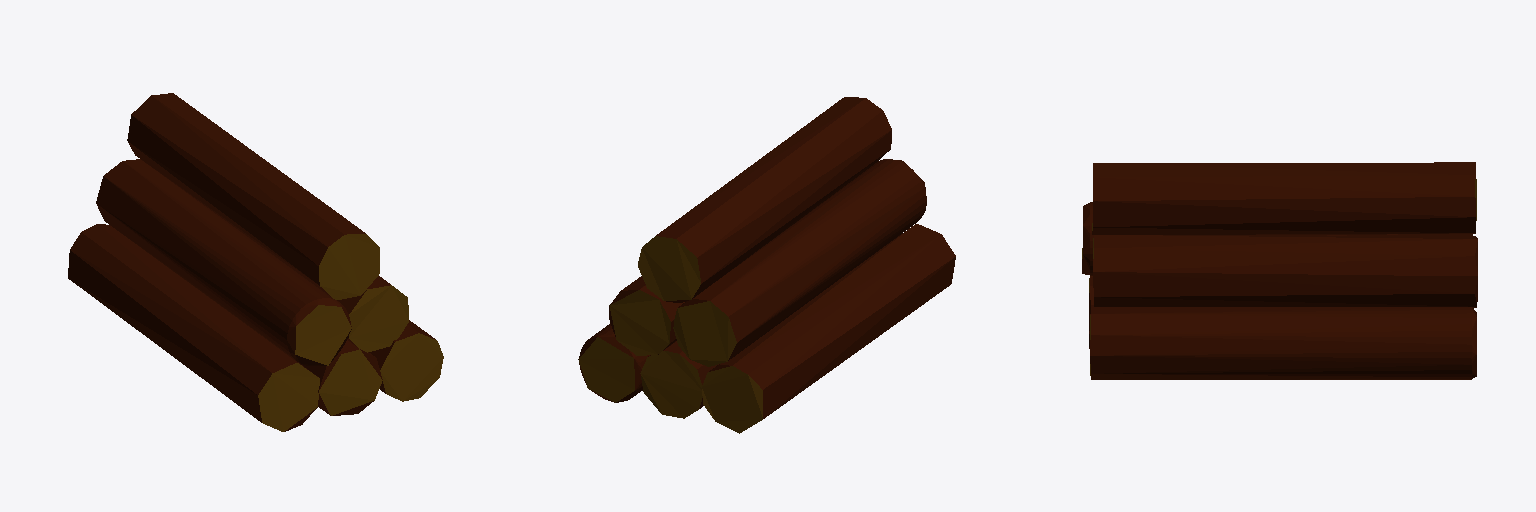
File: woodpile2.obj
The picture shows the model from 3 angles: view 1: azimuth 30°, elevation 25°; view 2: azimuth 150°, elevation 25°; view 3: azimuth 270°, elevation 25°; orthographic projection.
Parts seen in each view (by area): view 1: Cylinder.004; view 2: Cylinder.004; view 3: Cylinder.004.
Boxes of the visible parts, <box> form: Cylinder.004: <box>68,93,443,431</box>; Cylinder.004: <box>578,97,955,433</box>; Cylinder.004: <box>1082,162,1477,379</box>.
Bounding box in the file's own units: 1.68 × 1.57 × 3.1.